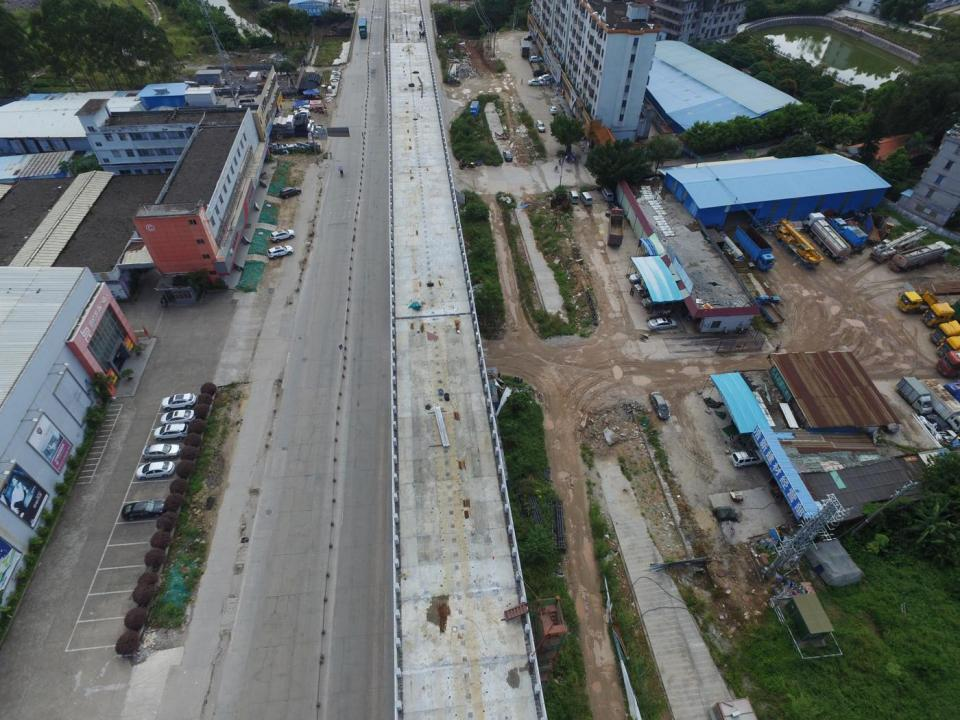car: (122, 501, 164, 521), (732, 450, 768, 468), (648, 391, 670, 420), (141, 444, 180, 460), (162, 393, 196, 411), (159, 411, 196, 426), (137, 464, 174, 478), (926, 414, 949, 436), (155, 425, 188, 440), (880, 410, 898, 434), (648, 318, 678, 332), (267, 244, 292, 259), (269, 228, 295, 242), (279, 185, 302, 198), (644, 296, 662, 309), (629, 272, 652, 282), (635, 283, 653, 292), (502, 150, 514, 162), (535, 120, 546, 132), (294, 110, 311, 117), (538, 74, 554, 81), (529, 56, 544, 63), (292, 108, 309, 114), (528, 79, 542, 86), (548, 105, 556, 114), (534, 70, 546, 76), (524, 34, 532, 40)
truck: (804, 212, 848, 262), (918, 380, 960, 429), (825, 208, 866, 253), (736, 224, 775, 271), (899, 287, 960, 313), (897, 377, 932, 414), (753, 297, 783, 325), (864, 208, 886, 245), (608, 208, 625, 248), (357, 18, 368, 40), (469, 100, 480, 119), (520, 40, 530, 57)
van: (601, 186, 614, 203), (568, 190, 579, 205), (581, 192, 592, 206)
